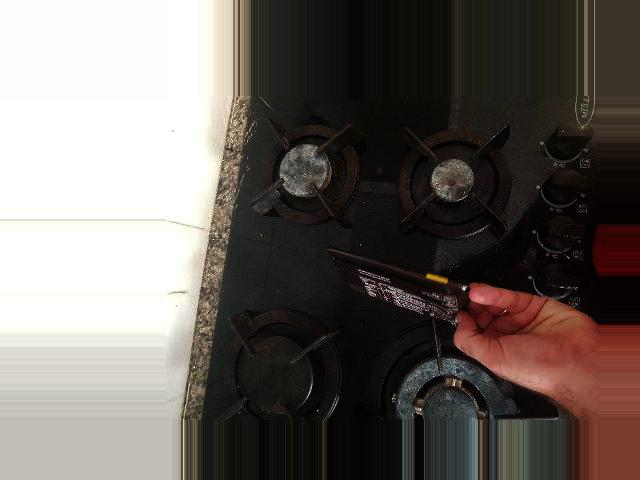chocolate: (326, 244, 483, 329)
